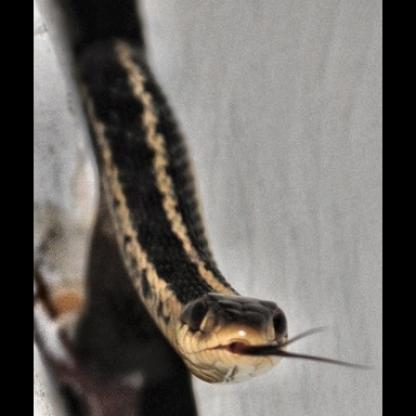Snake: (75, 44, 296, 396)
